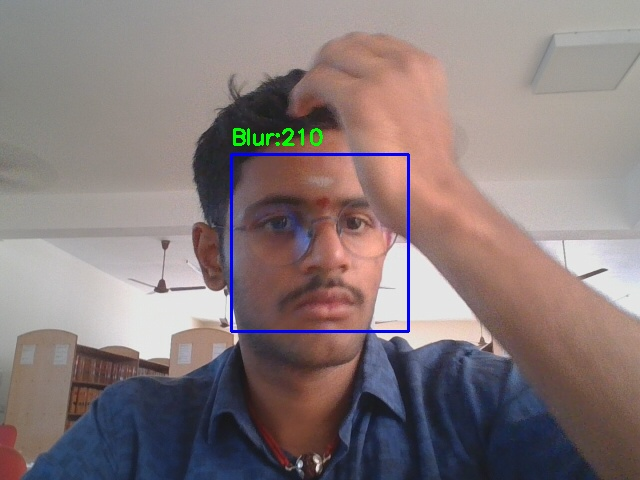real: (231, 154, 408, 331)
